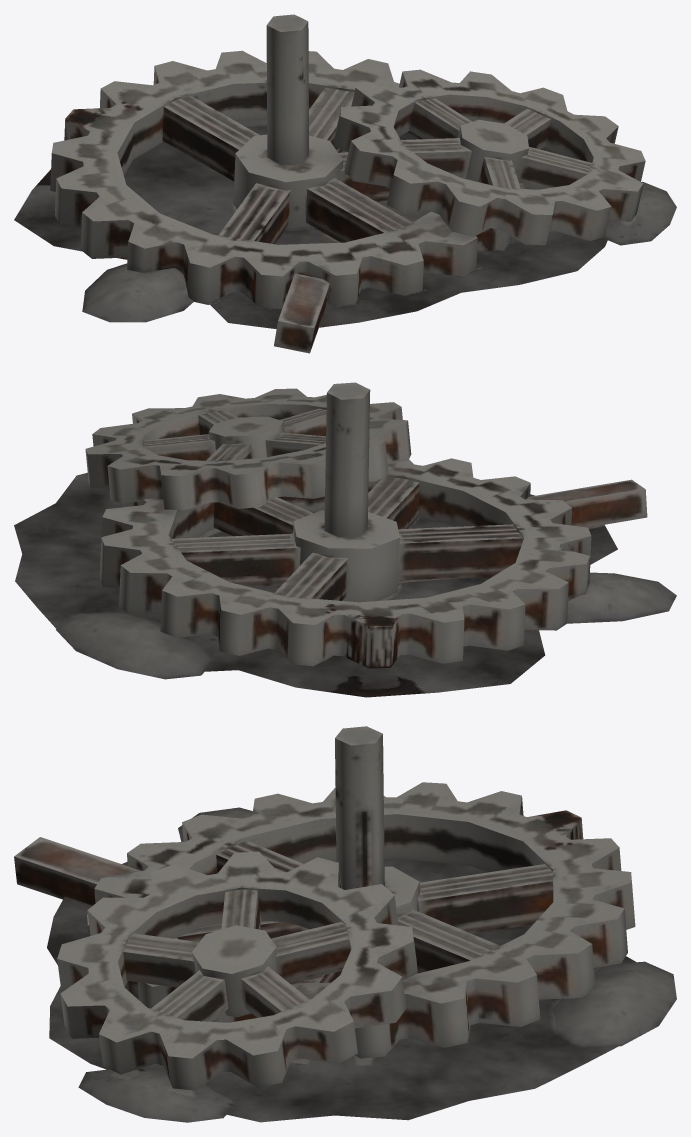
Rendered from foundry_gears.glb.
3 views of the same model, one above another, from view 1: azimuth 30°, elevation 25°; view 2: azimuth 150°, elevation 25°; view 3: azimuth 270°, elevation 25° (orthographic). The views are drawn at different scales.
Visible parts, largest first — view 1: foundry_gears; view 2: foundry_gears; view 3: foundry_gears.
Part boxes in pixels (box(x1,y1,x2,y2)): foundry_gears: box(14, 14, 676, 353); foundry_gears: box(14, 382, 676, 697); foundry_gears: box(14, 726, 676, 1122).
Bounding box in the file's own units: 2.28 × 0.7544 × 2.03.
Materials: 1 (1 with a texture image).
